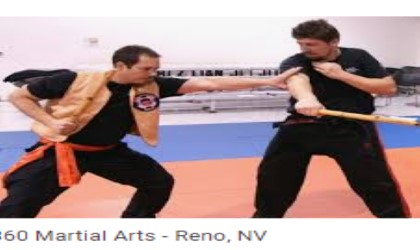baston_e: (324, 104, 416, 131)
